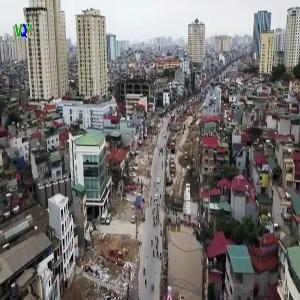drone: (73, 206, 115, 248)
